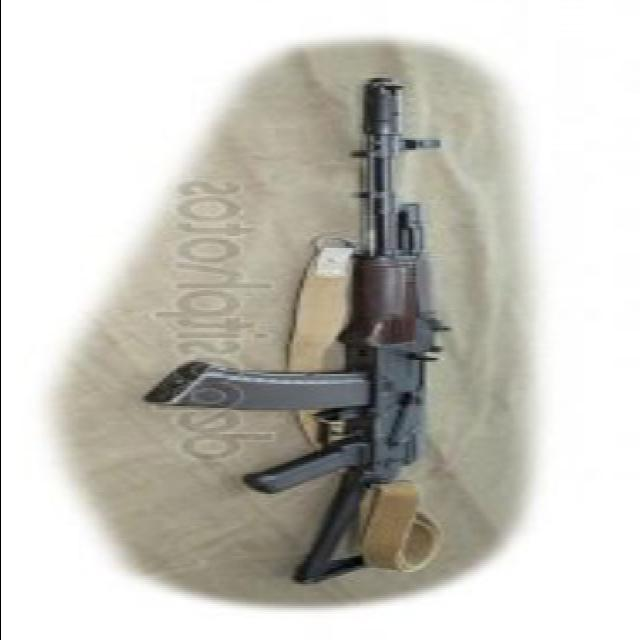rifle: (153, 73, 469, 599)
